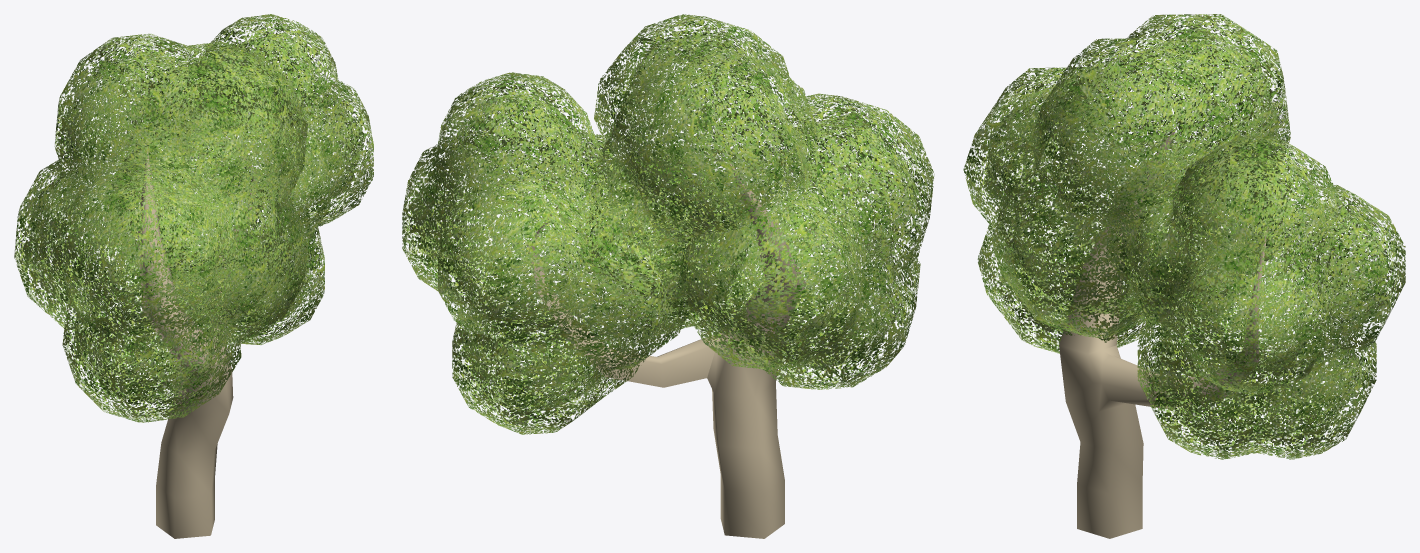
File: tree3.glb
The picture shows the model from 3 angles, left to right: view 1: azimuth 30°, elevation 25°; view 2: azimuth 150°, elevation 25°; view 3: azimuth 270°, elevation 25°; orthographic projection. The views are drawn at different scales.
Parts seen in each view (by area): view 1: Polygon; view 2: Polygon; view 3: Polygon.
Boxes of the visible parts, x1,y1,x2,y2 form: Polygon: (14,14,373,538); Polygon: (402,14,934,538); Polygon: (963,14,1405,538).
Size of the model in its own units: 4.53 by 5.14 by 4.1.
2 materials, 1 textured.
